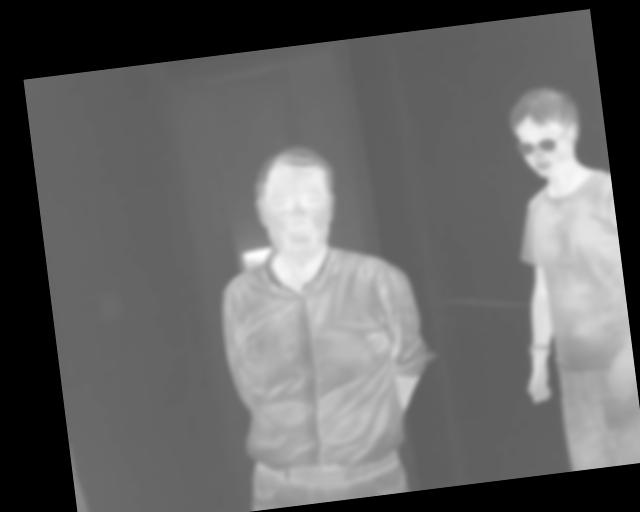face: (247, 141, 344, 267), (503, 81, 586, 183)
